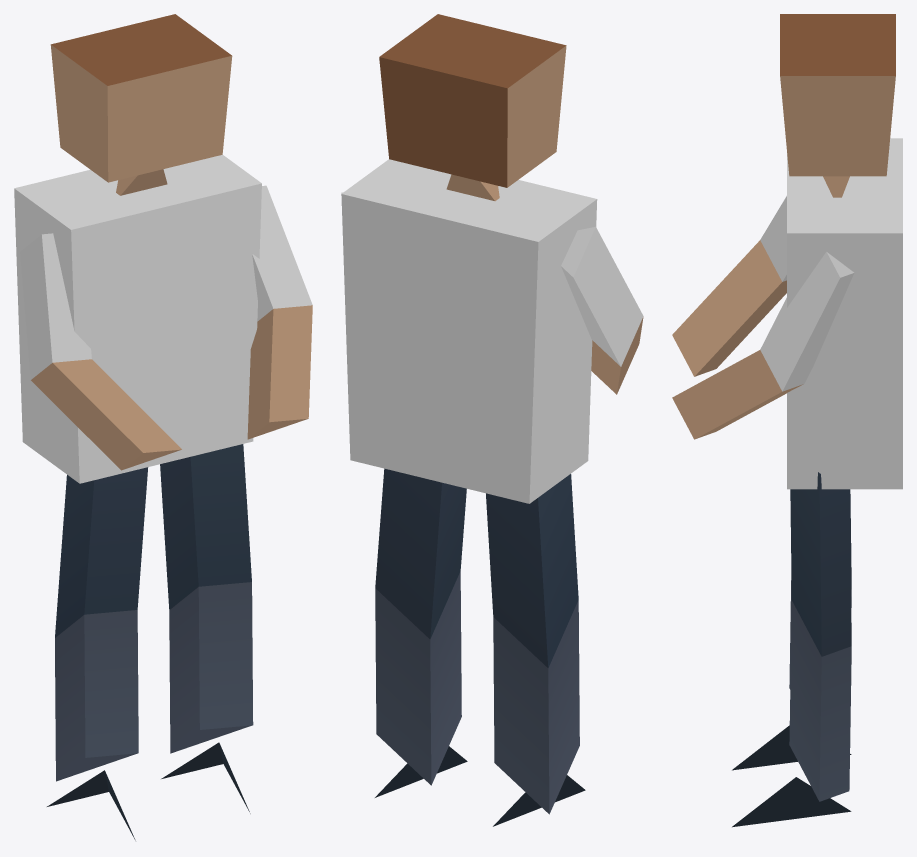
The model's file is fan-11.glb.
3 renders of one model, left to right at view 1: azimuth 30°, elevation 25°; view 2: azimuth 150°, elevation 25°; view 3: azimuth 270°, elevation 25°, orthographic. The views are drawn at different scales.
Visible parts, largest first — view 1: fan-11; view 2: fan-11; view 3: fan-11.
Part boxes in pixels (box(x1,y1,x2,y2)): fan-11: box(14, 14, 312, 840); fan-11: box(341, 14, 643, 826); fan-11: box(672, 14, 902, 827).
Bounding box in the file's own units: 0.6875 × 1.79 × 0.4978.
